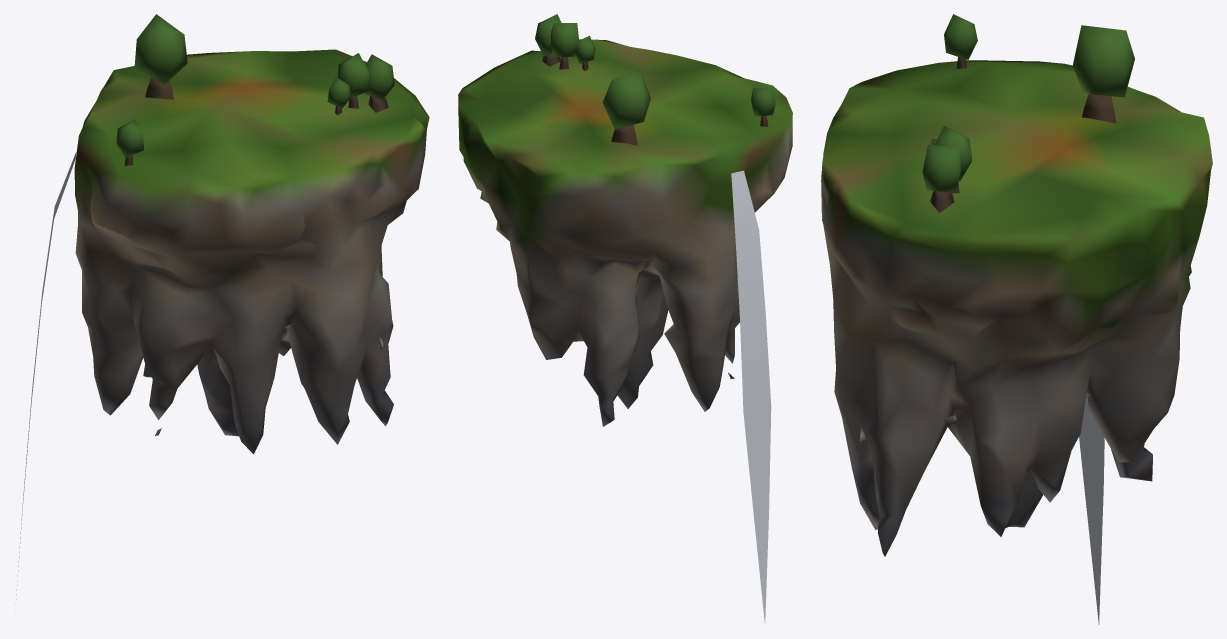
File: island-cliff-lod2.glb
3 renders of one model, left to right at view 1: azimuth 30°, elevation 25°; view 2: azimuth 150°, elevation 25°; view 3: azimuth 270°, elevation 25°, orthographic. The views are drawn at different scales.
Visible parts, largest first — view 1: Silhouette; view 2: Silhouette; view 3: Silhouette.
Boxes of the visible parts, bbox=[...] form: Silhouette: bbox=[15, 14, 429, 604]; Silhouette: bbox=[458, 14, 792, 624]; Silhouette: bbox=[821, 14, 1212, 624].
Size of the model in its own units: 56.45 by 86.9 by 45.04.
